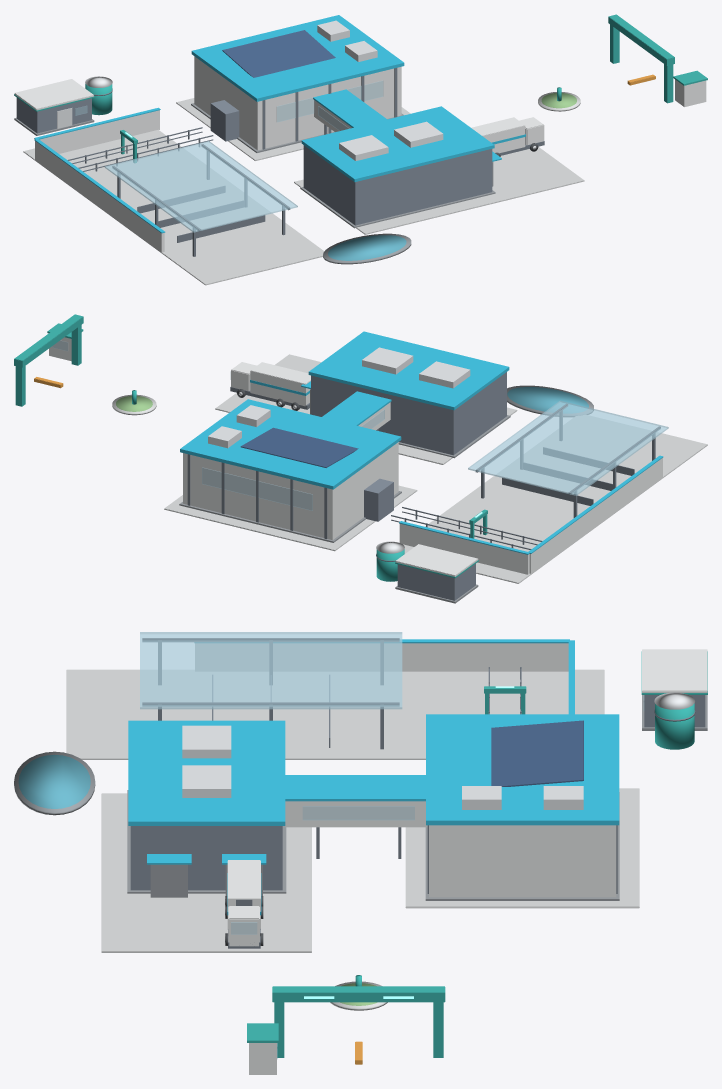
Rendered from i_slaughter_coldchain.glb.
3 renders of one model, top to bottom at view 1: azimuth 30°, elevation 25°; view 2: azimuth 150°, elevation 25°; view 3: azimuth 270°, elevation 25°, orthographic. The views are drawn at different scales.
Parts seen in each view (by area): view 1: I_Pad_HoldYard, I_Pen_Canopy, I_Cold_Body, I_Plant_Body, I_Plant_Crown, I_Cold_Crown, I_Pad_ColdApron, I_Plant_Solar, I_ScreenWall_W, I_ScreenWall_N, I_Pond_Rim, I_Pond_Water (+22 smaller); view 2: I_Pad_HoldYard, I_Pen_Canopy, I_Plant_Body, I_Plant_Crown, I_Cold_Crown, I_Cold_Body, I_ScreenWall_W, I_Plant_Solar, I_ScreenWall_N, I_Pad_Plant, I_Plant_Glass, I_Wash_Body (+20 smaller); view 3: I_Pad_HoldYard, I_Pen_Canopy, I_Pad_ColdApron, I_Plant_Crown, I_Plant_Body, I_Cold_Crown, I_ScreenWall_W, I_Cold_Body, I_Pad_Plant, I_Plant_Solar, I_Pond_Rim, I_Skybridge_Body (+20 smaller).
Part boxes in pixels (x1,y1,x2,y2): I_Pad_HoldYard: (23, 129, 324, 285); I_Pen_Canopy: (104, 141, 297, 232); I_Cold_Body: (303, 145, 492, 225); I_Plant_Body: (194, 56, 401, 150); I_Plant_Crown: (191, 15, 404, 101); I_Cold_Crown: (301, 106, 494, 182); I_Pad_ColdApron: (294, 147, 584, 234); I_Plant_Solar: (222, 30, 335, 77); I_ScreenWall_W: (35, 141, 164, 252); I_ScreenWall_N: (40, 110, 159, 153); I_Pond_Rim: (323, 233, 411, 264); I_Pond_Water: (328, 235, 406, 260); I_Pad_HoldYard: (403, 415, 707, 583); I_Pen_Canopy: (468, 400, 668, 495); I_Plant_Body: (183, 442, 398, 539); I_Plant_Crown: (180, 399, 401, 489); I_Cold_Crown: (308, 331, 509, 410); I_Cold_Body: (311, 372, 506, 455); I_ScreenWall_W: (529, 458, 662, 574); I_Plant_Solar: (240, 427, 358, 467); I_ScreenWall_N: (399, 523, 529, 574); I_Pad_Plant: (164, 485, 417, 551); I_Plant_Glass: (202, 467, 312, 510); I_Wash_Body: (397, 563, 475, 600); I_Pad_HoldYard: (66, 669, 604, 759); I_Pen_Canopy: (140, 632, 402, 709); I_Pad_ColdApron: (101, 793, 311, 952); I_Plant_Crown: (426, 714, 619, 825); I_Plant_Body: (429, 825, 616, 897); I_Cold_Crown: (128, 720, 285, 825); I_ScreenWall_W: (195, 643, 568, 671); I_Cold_Body: (130, 826, 282, 890); I_Pad_Plant: (405, 788, 639, 908); I_Plant_Solar: (491, 720, 583, 786); I_Pond_Rim: (14, 751, 95, 815); I_Skybridge_Body: (285, 801, 427, 827).
Size of the model in its own units: 82.21 by 8.67 by 59.32.
